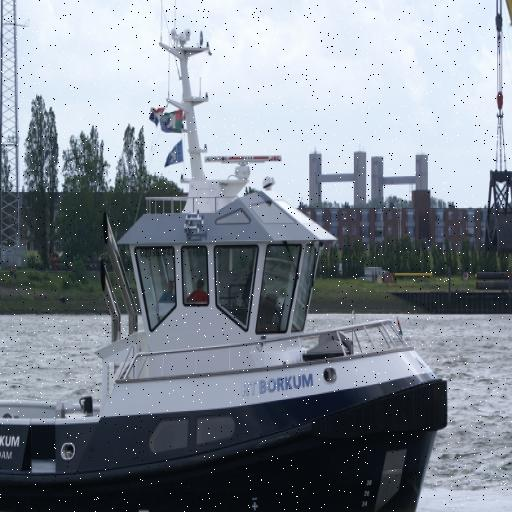tugboat: (1, 20, 452, 512)
